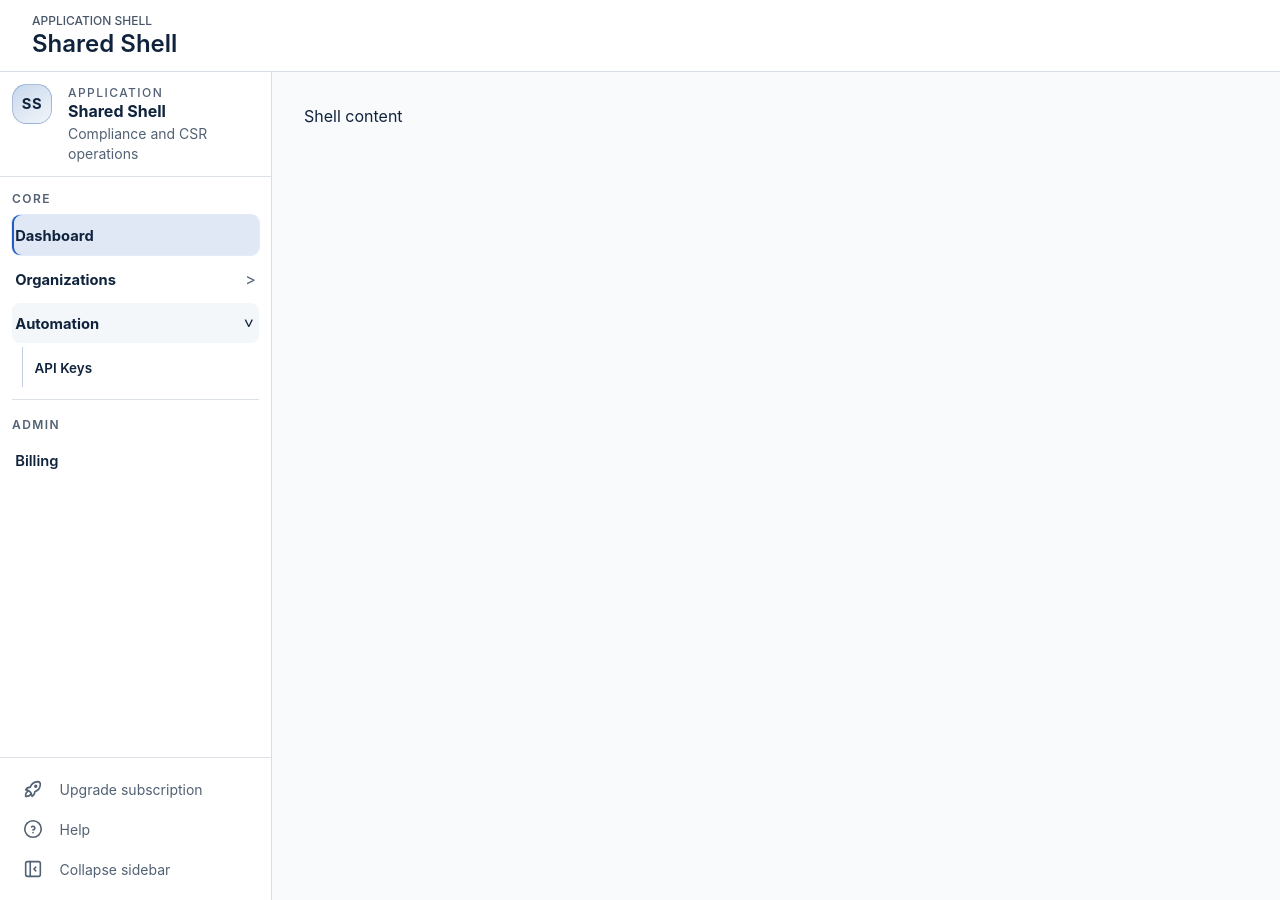
Test: VerifyForGoodAppShell › renders an upgrade subscription link and help flyout when provided
The width and height of the screenshot is (1280, 900).
Expected: the link "Upgrade subscription" is shown, [22,778,203,800]
Step 1. Click the button "Help" → (136, 829), box [12,810,259,848]
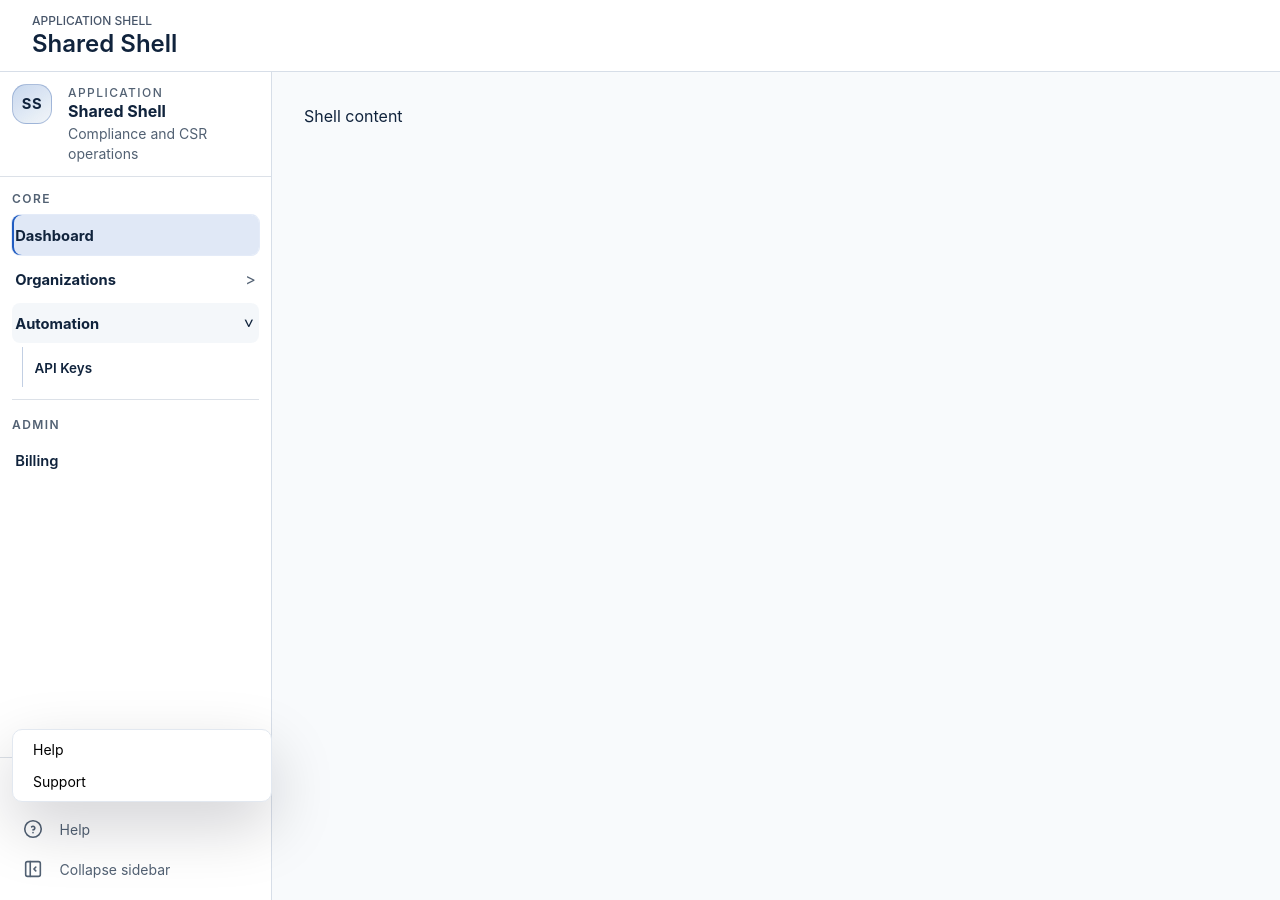
Expected: the menu item with test id "vf-sidebar-help-item-help" is shown, [33,741,64,758]
Expected: the menu item with test id "vf-sidebar-help-item-support" is shown, [33,773,86,790]
